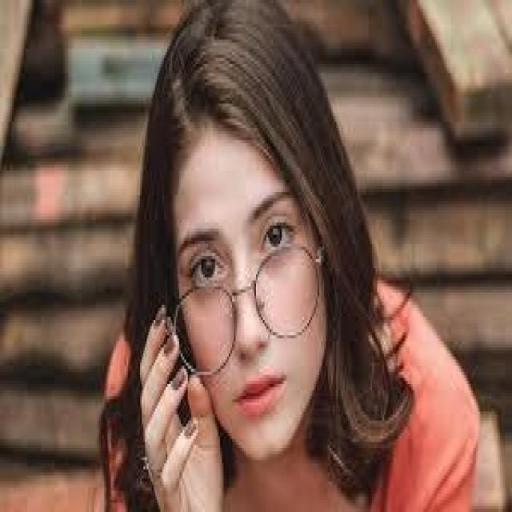glasses: (167, 233, 333, 392)
